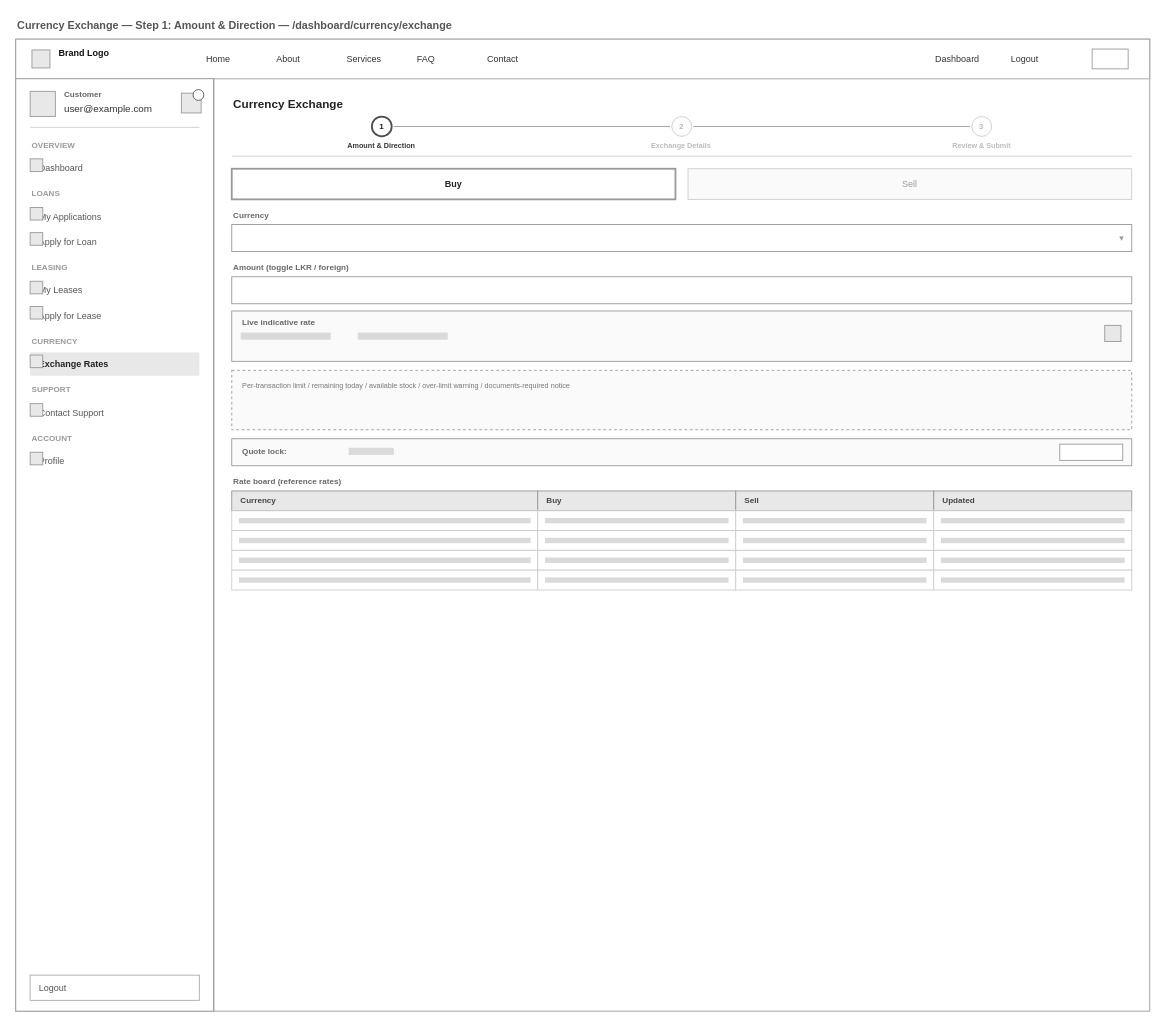
Some shapes in this 1166 by 1028 pixel diagram are drawn without their labels. Here are the shapes that lost their labels. From the top down, the centre of each, then its label:
At pixel 1109 58: "EN ▾".
At pixel 1091 451: "Re-quote".
